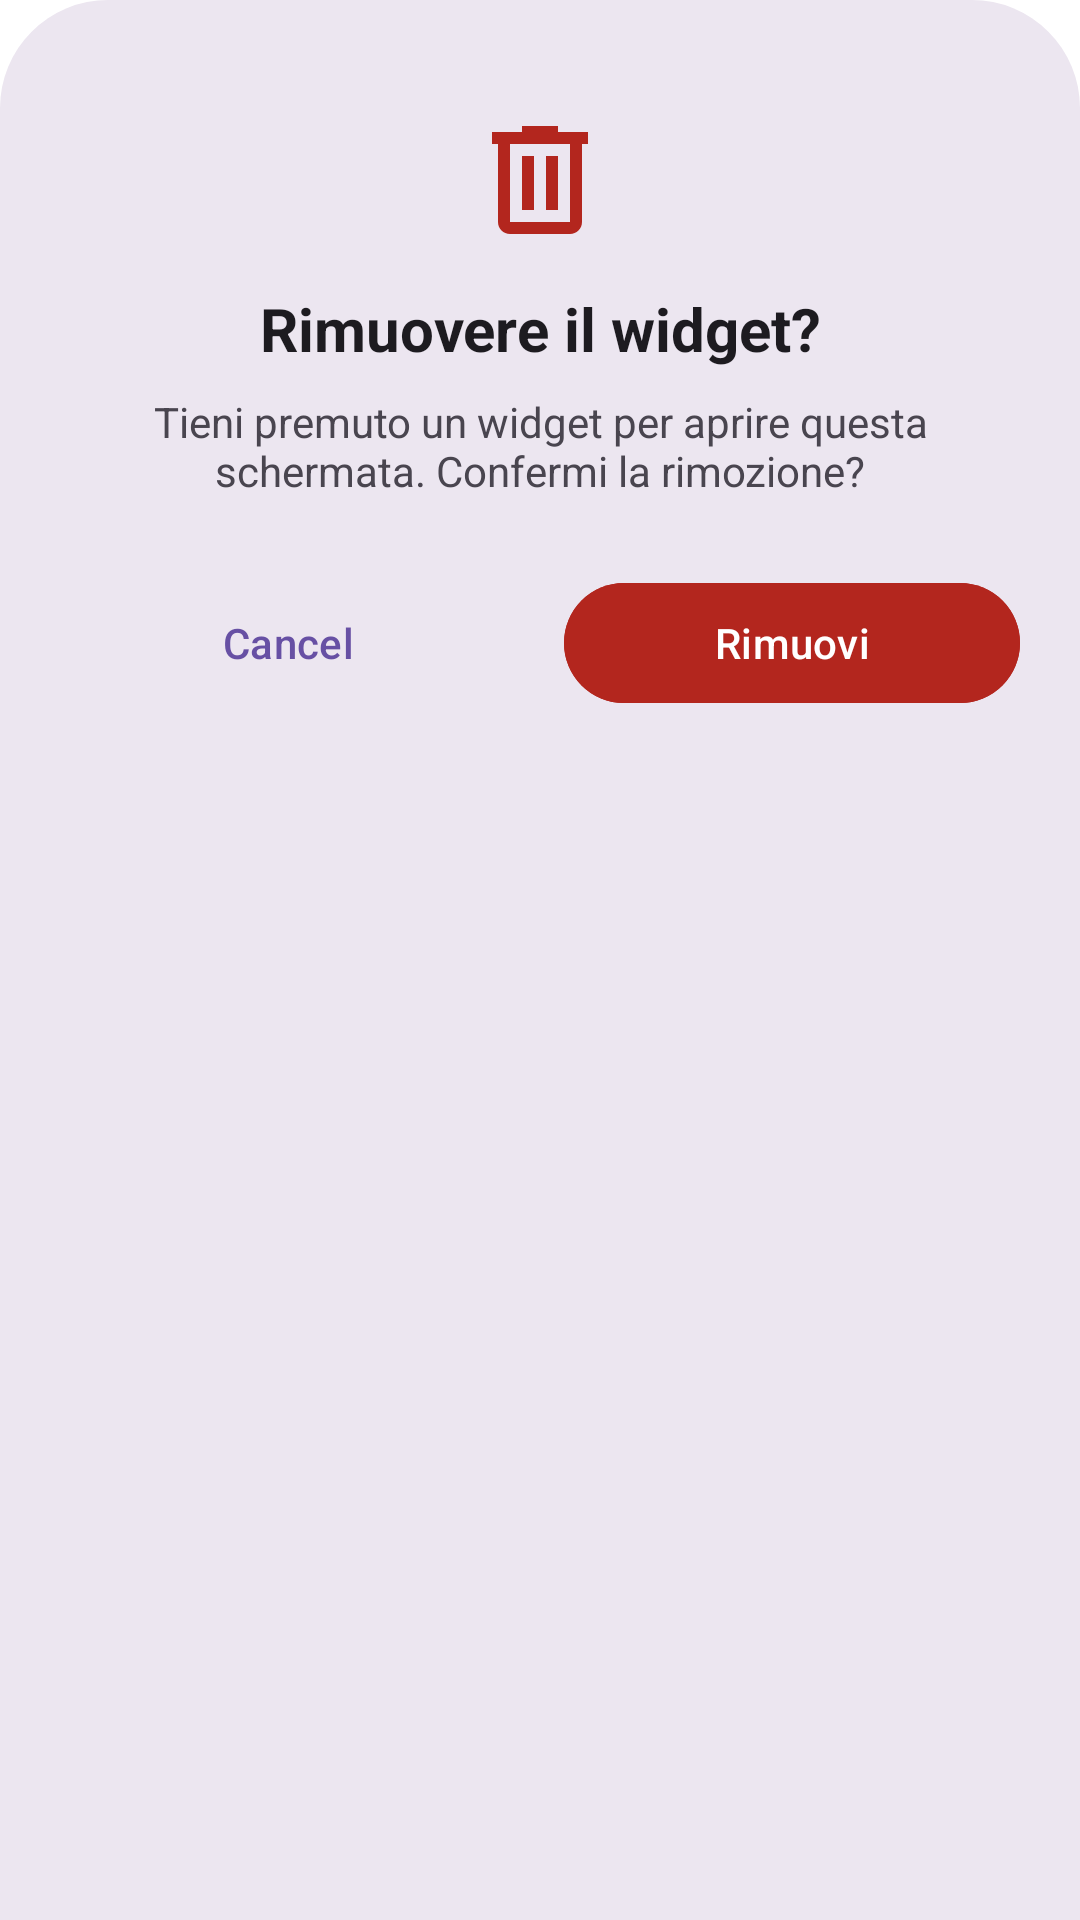

Point at icon controls on the screen. Image size 1080 x 1920, points as (x,y).
uninstall: (540,180)
